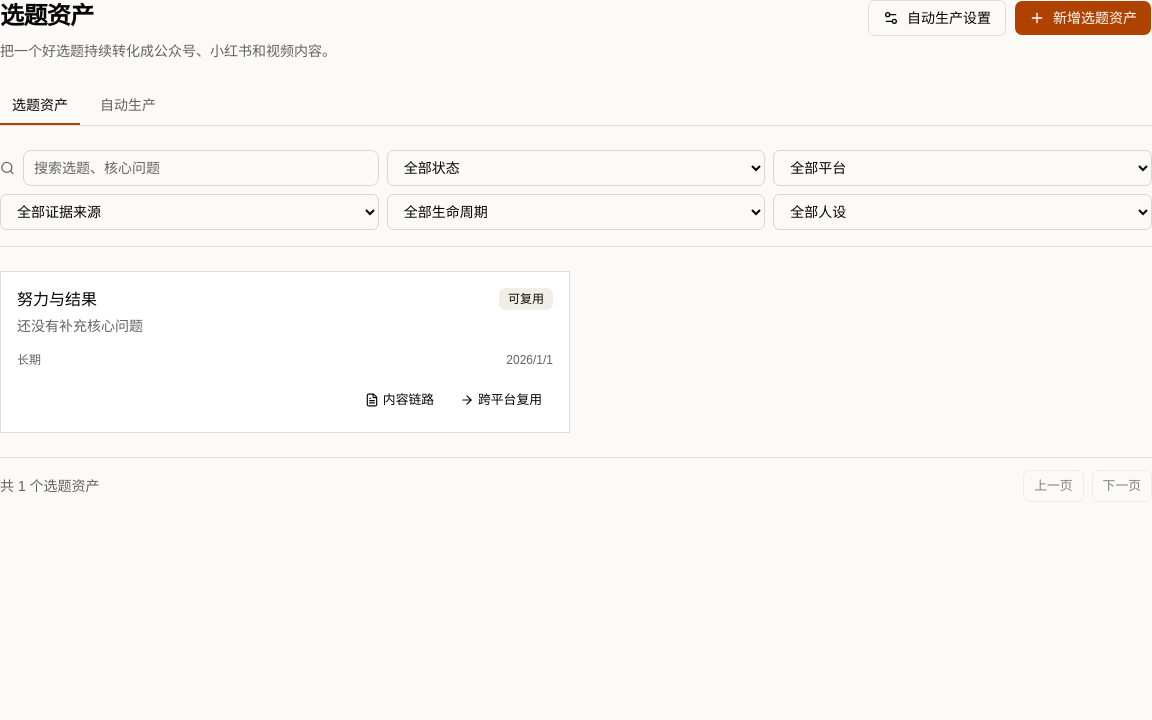
Test case: ContentAssetsPage › refreshes the reuse run and shows server-side failure details
Click the button "跨平台复用": (501, 400) [449, 384, 553, 416]
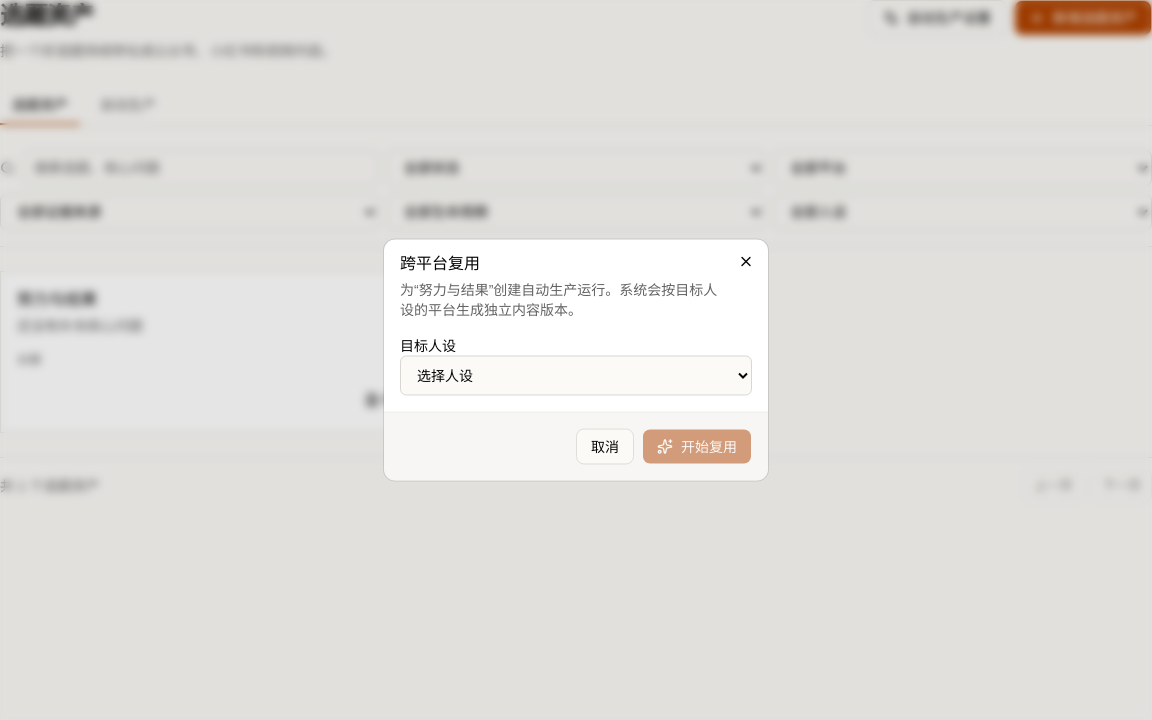
Select "公众号 · wechat" in the dropdown labelled "目标人设": (576, 376) [400, 356, 752, 396]
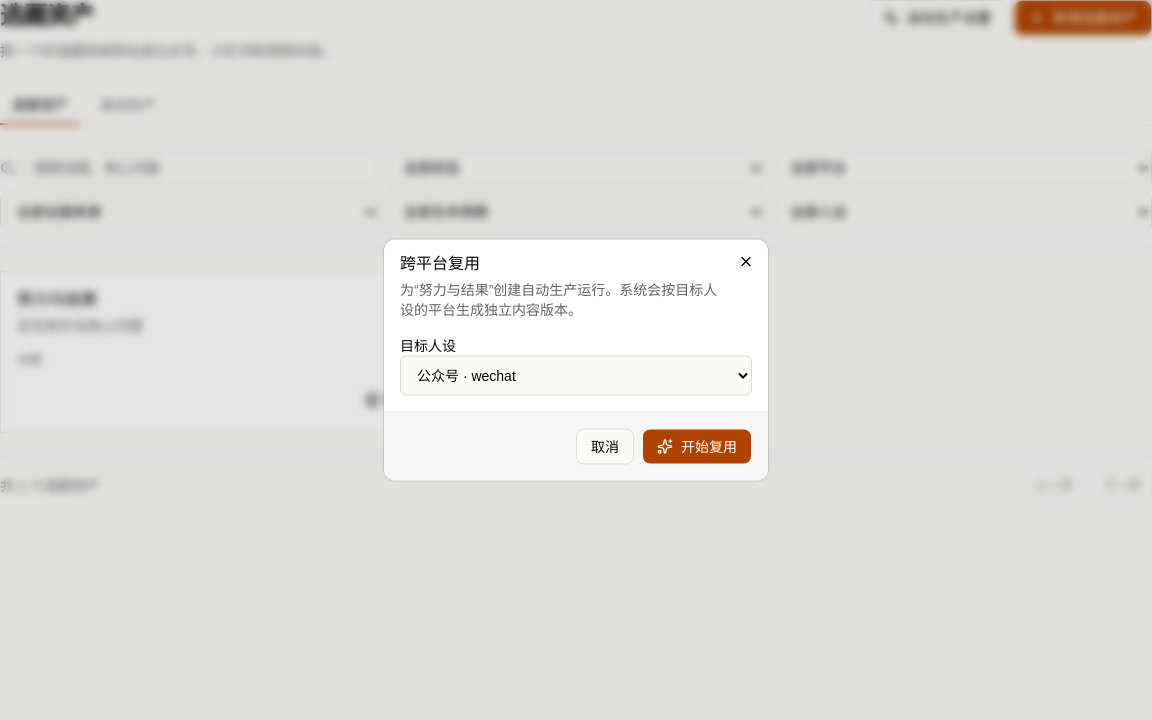
Click the button "开始复用": (697, 446) [642, 428, 752, 464]
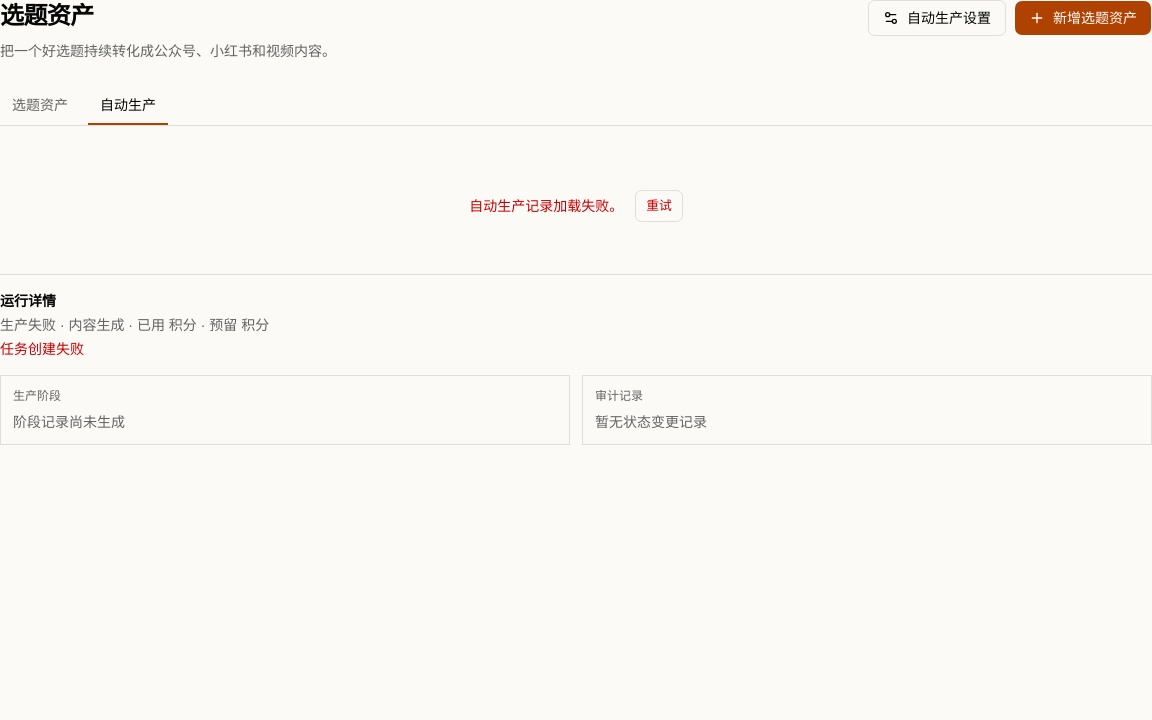
Expected: the text "生产失败 · 内容生成 · 已用 积分 · 预留 积分" is shown, [0, 315, 269, 335]
Expected: the text "任务创建失败" is shown, [0, 341, 84, 357]
